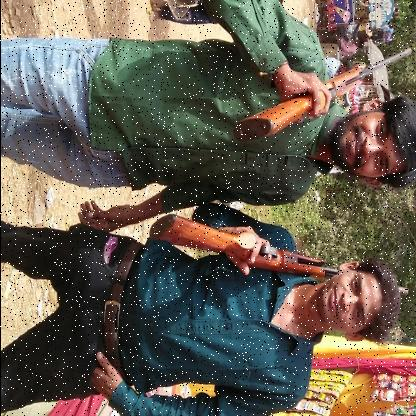rifle: (146, 212, 408, 297), (230, 46, 412, 144)
